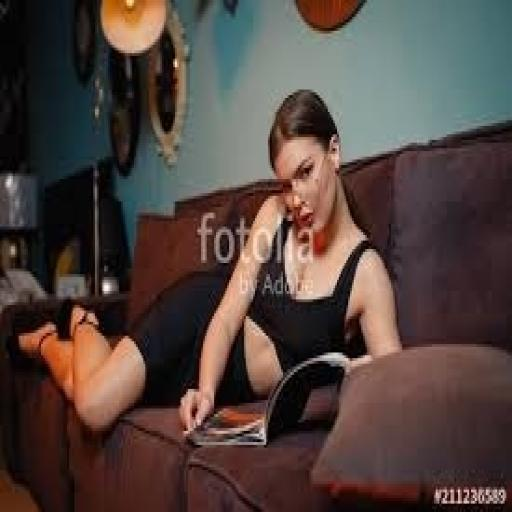sitting: (11, 84, 404, 439)
